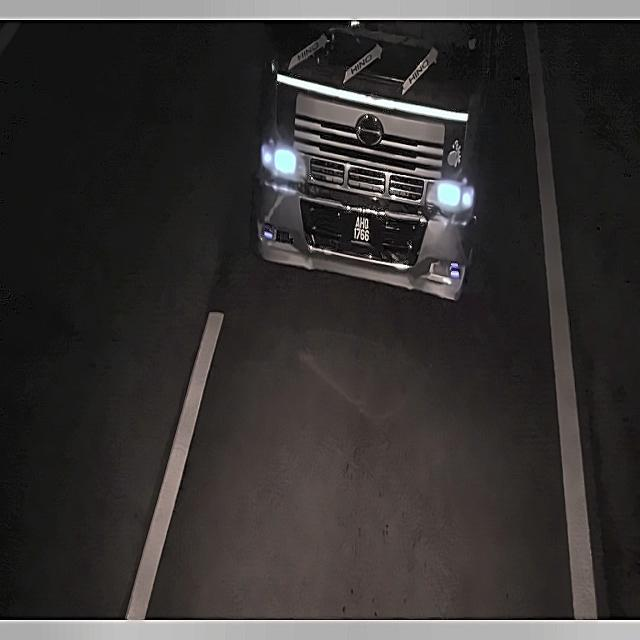car: (342, 212, 381, 252)
